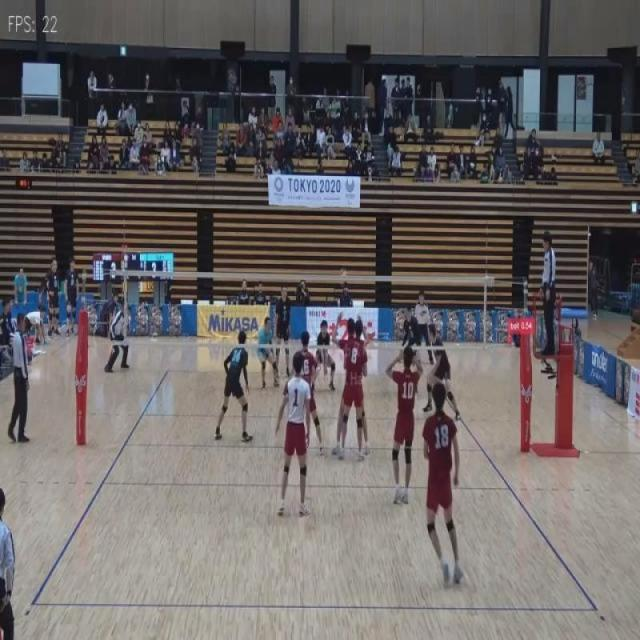volleyball: (339, 267, 347, 278)
